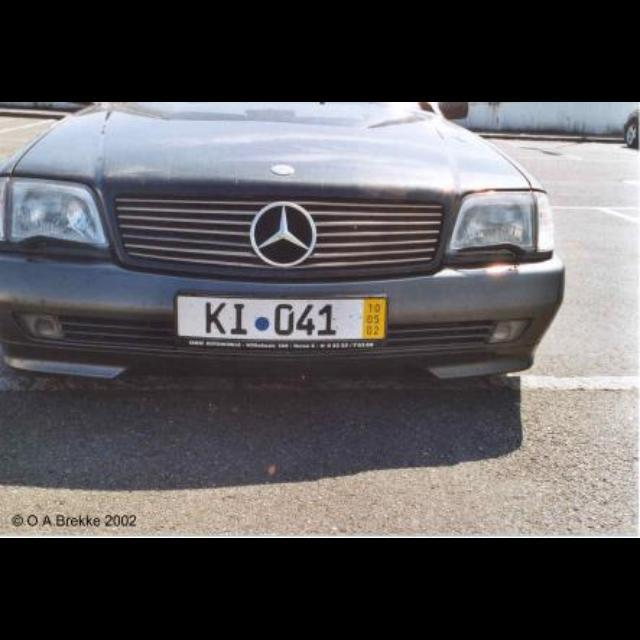license-plates: (177, 298, 386, 348)
